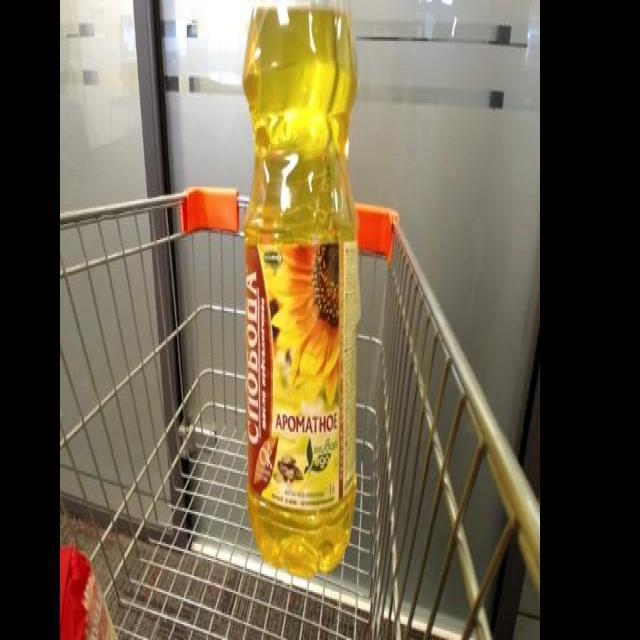Oil: (238, 1, 364, 586)
